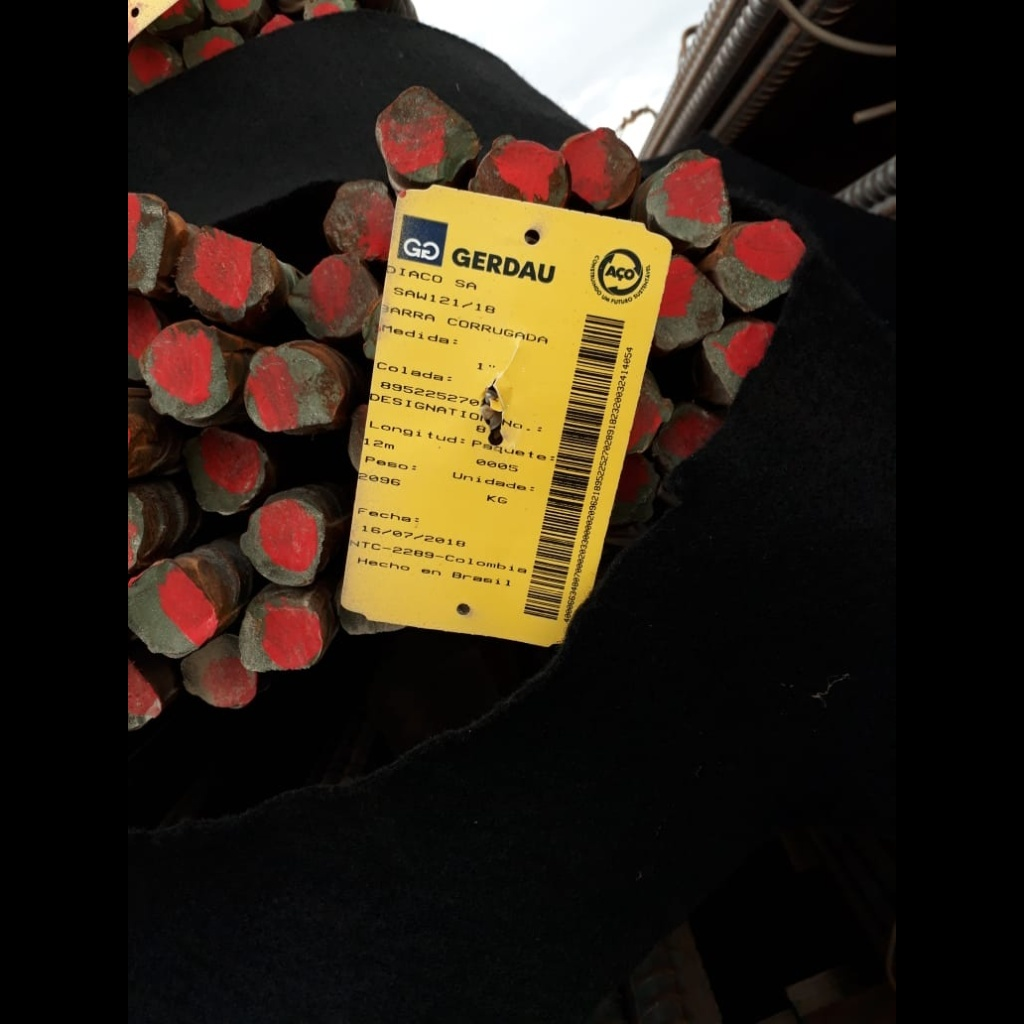dipstick: (376, 84, 484, 182), (175, 228, 279, 318), (139, 322, 231, 421), (129, 562, 218, 660), (646, 149, 734, 247), (244, 347, 344, 431), (715, 220, 805, 312), (290, 251, 378, 338), (240, 497, 327, 585), (654, 253, 726, 352), (188, 429, 269, 517), (470, 140, 569, 208), (561, 127, 639, 209), (240, 597, 323, 671), (323, 177, 395, 260), (702, 318, 775, 397), (181, 637, 256, 707), (653, 402, 720, 470), (129, 192, 168, 293), (627, 375, 673, 455), (609, 455, 656, 522), (129, 301, 160, 380), (129, 663, 163, 735)
